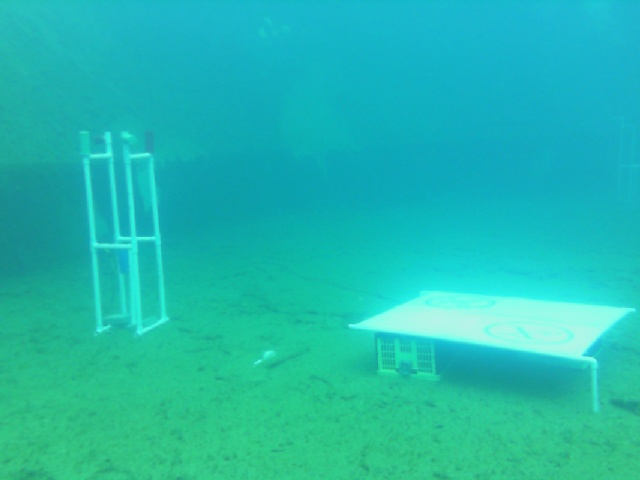object_dropoff: (330, 284, 636, 418)
object_pickup: (73, 127, 175, 338)
